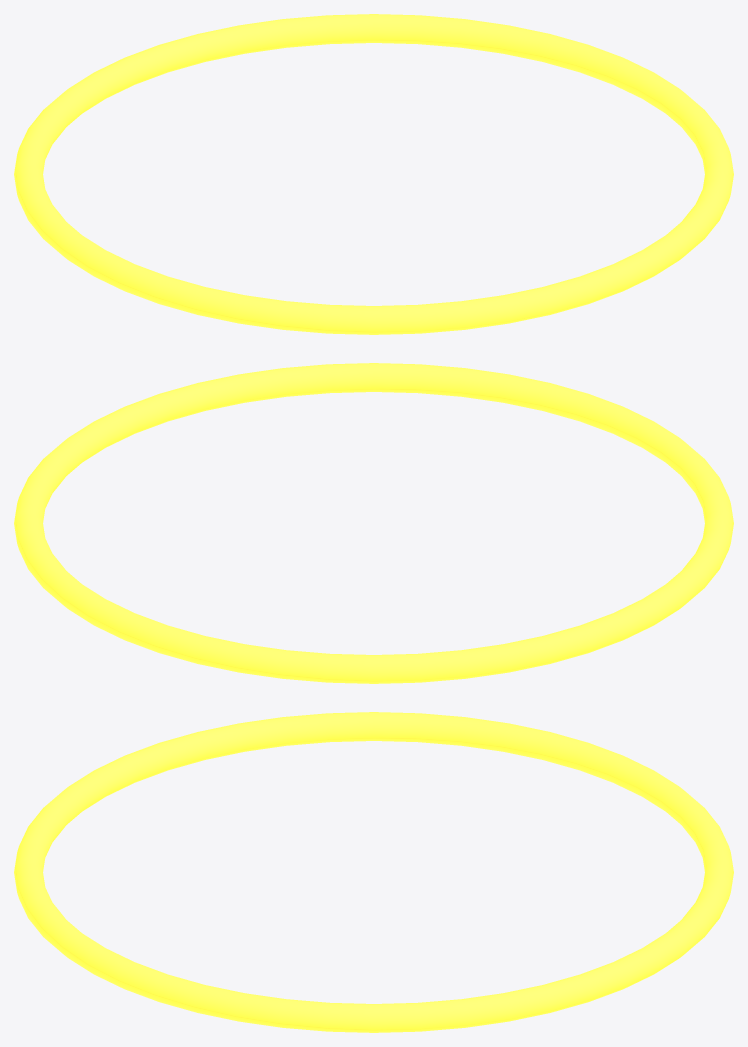
The model's file is SM_GoldRing.fbx.
3 views of the same model, one above another, from view 1: azimuth 30°, elevation 25°; view 2: azimuth 150°, elevation 25°; view 3: azimuth 270°, elevation 25° (orthographic).
Visible parts, largest first — view 1: SM_Ring; view 2: SM_Ring; view 3: SM_Ring.
Boxes of the visible parts, x1,y1,x2,y2 form: SM_Ring: (14, 14, 733, 334); SM_Ring: (14, 363, 733, 683); SM_Ring: (14, 712, 733, 1032).
Size of the model in its own units: 1042 by 42 by 1042.
